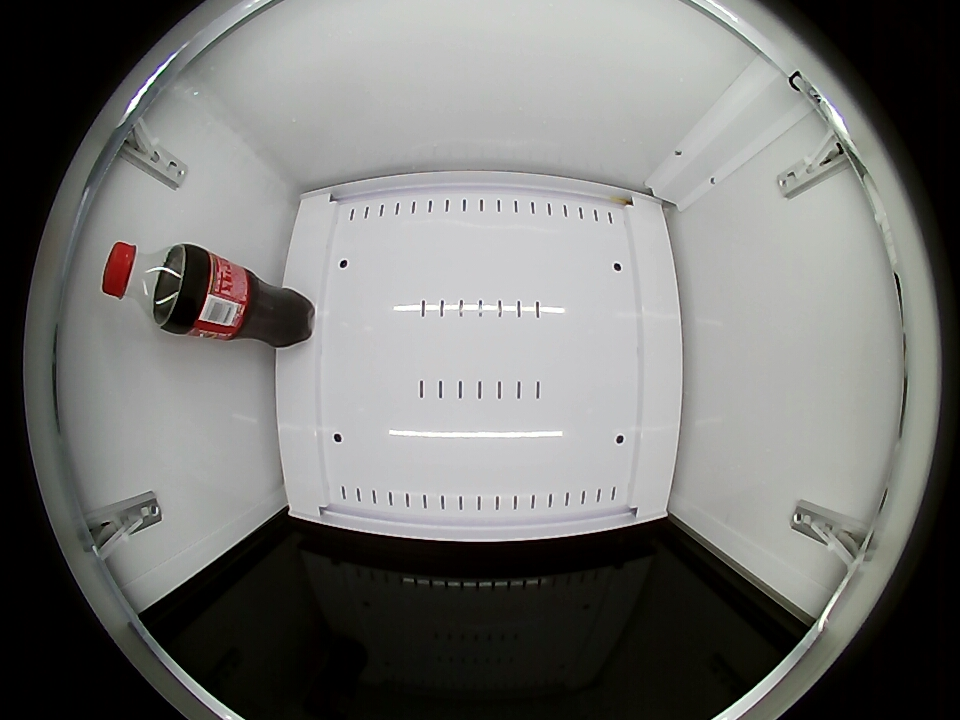kele-b: (101, 241, 192, 328)
